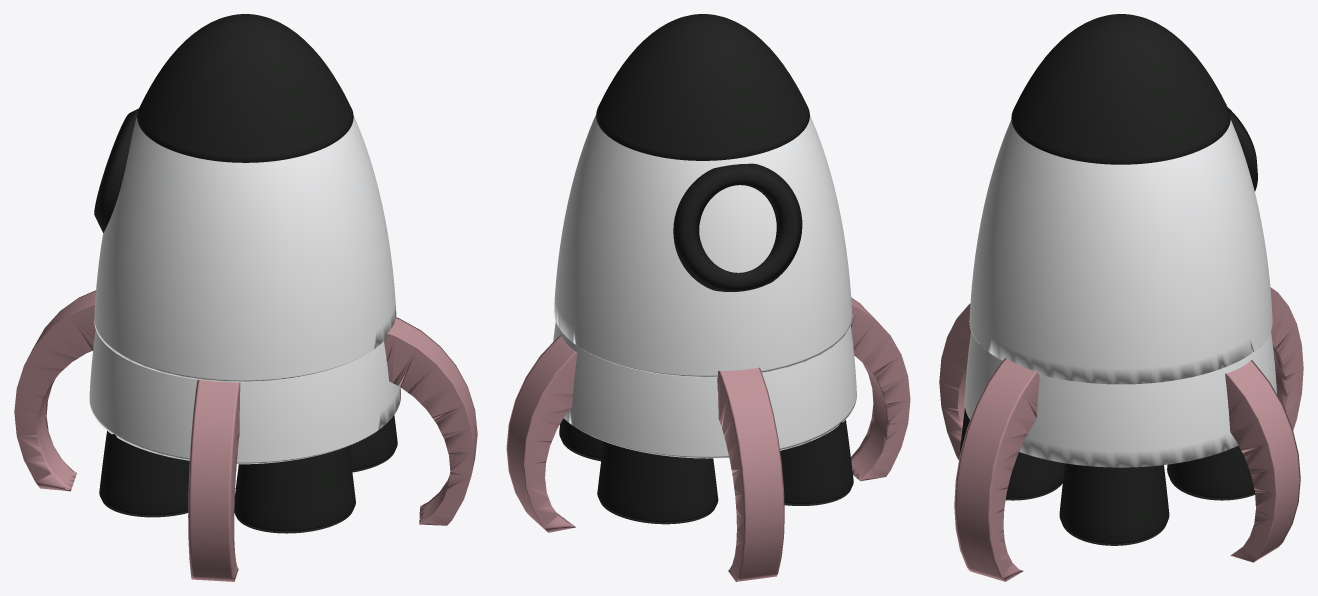
Rendered from foguete.glb.
3 renders of one model, left to right at view 1: azimuth 30°, elevation 25°; view 2: azimuth 150°, elevation 25°; view 3: azimuth 270°, elevation 25°, orthographic. The views are drawn at different scales.
Visible parts, largest first — view 1: PM3D_Sphere3D_1, Extract12, UMesh_PM3D_Cylinder3D_2; view 2: PM3D_Sphere3D_1, Extract12, UMesh_PM3D_Cylinder3D_2; view 3: PM3D_Sphere3D_1, Extract12, UMesh_PM3D_Cylinder3D_2.
Boxes of the visible parts, x1,y1,x2,y2 form: PM3D_Sphere3D_1: (89, 116, 400, 464); Extract12: (94, 14, 397, 533); UMesh_PM3D_Cylinder3D_2: (14, 290, 477, 581); PM3D_Sphere3D_1: (553, 114, 856, 458); Extract12: (559, 14, 853, 524); UMesh_PM3D_Cylinder3D_2: (506, 297, 910, 581); PM3D_Sphere3D_1: (964, 120, 1276, 467); Extract12: (959, 14, 1257, 545); UMesh_PM3D_Cylinder3D_2: (939, 287, 1303, 581).
Bounding box in the file's own units: 0.0249 × 0.0353 × 0.0239.
